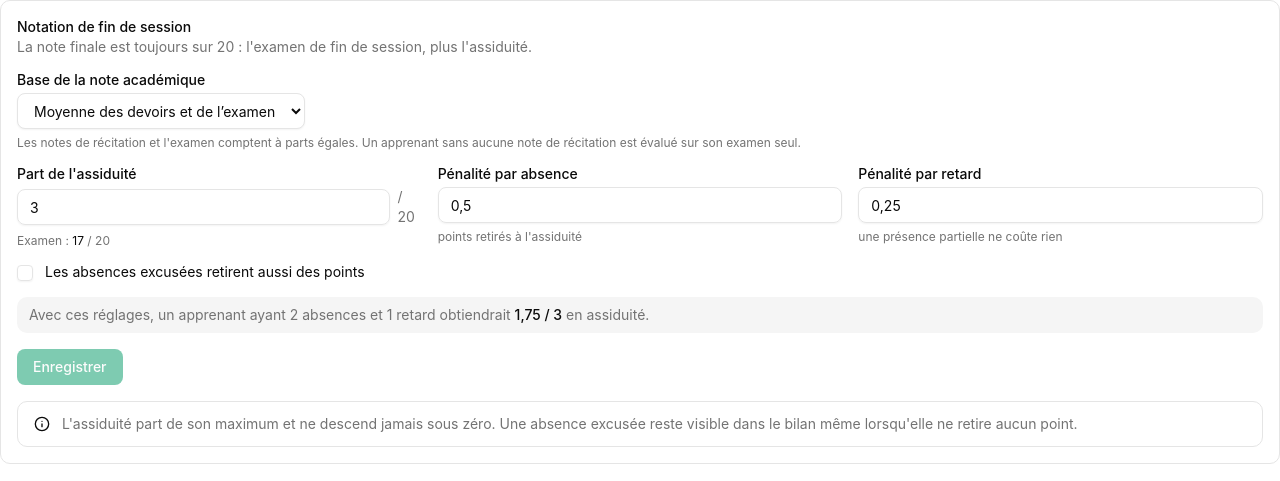
Test case: SectionNotation › refuse une part d’assiduité hors bornes, sans rien écrire
Replace the text in the field labelled "Part de l'assiduité" with "25". click: (203, 207)
box: [17,189,390,225]
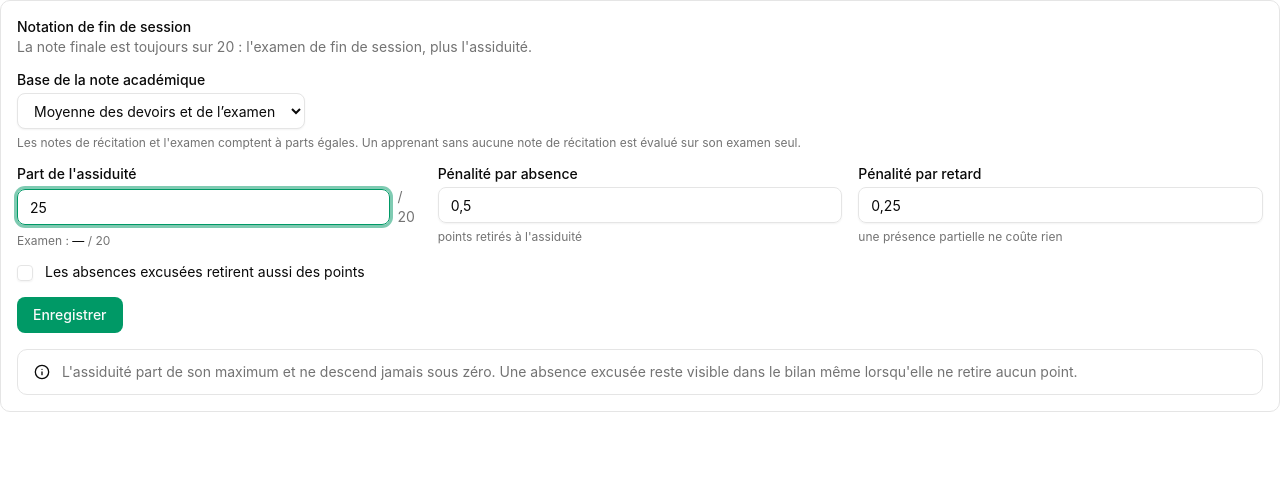
Click the button "Enregistrer". click: (70, 315)
box: [17,297,122,333]
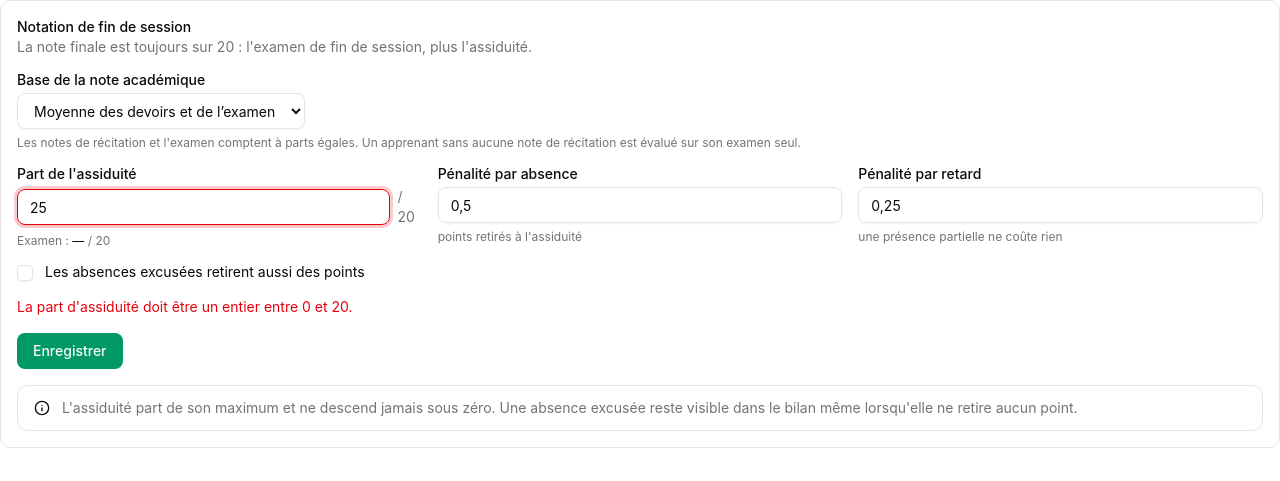
Check: the text "La part d'assiduité doit être un entier entre 0 et 20." is shown, box [17,298,352,315]
